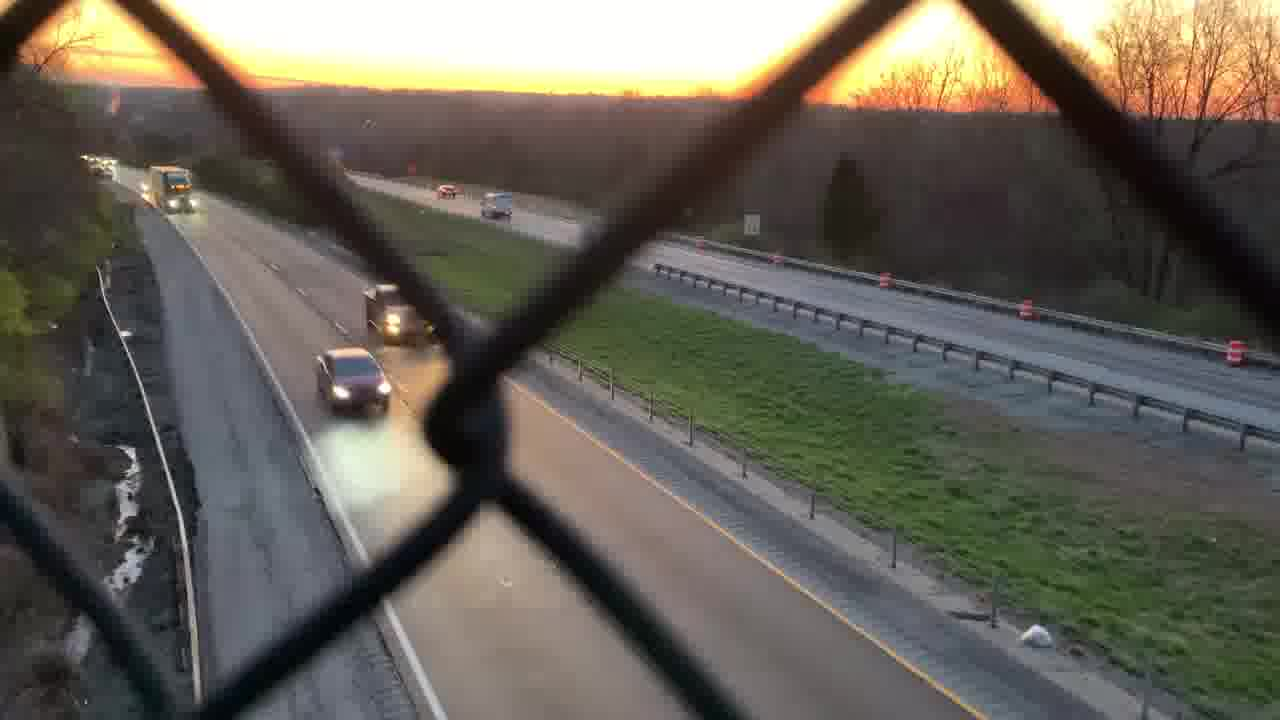smallCar: (309, 345, 392, 413)
